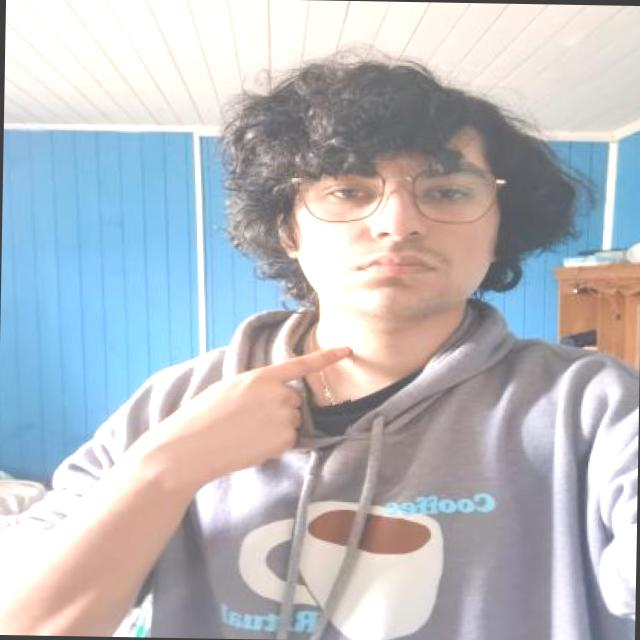Q: (140, 341, 352, 476)
